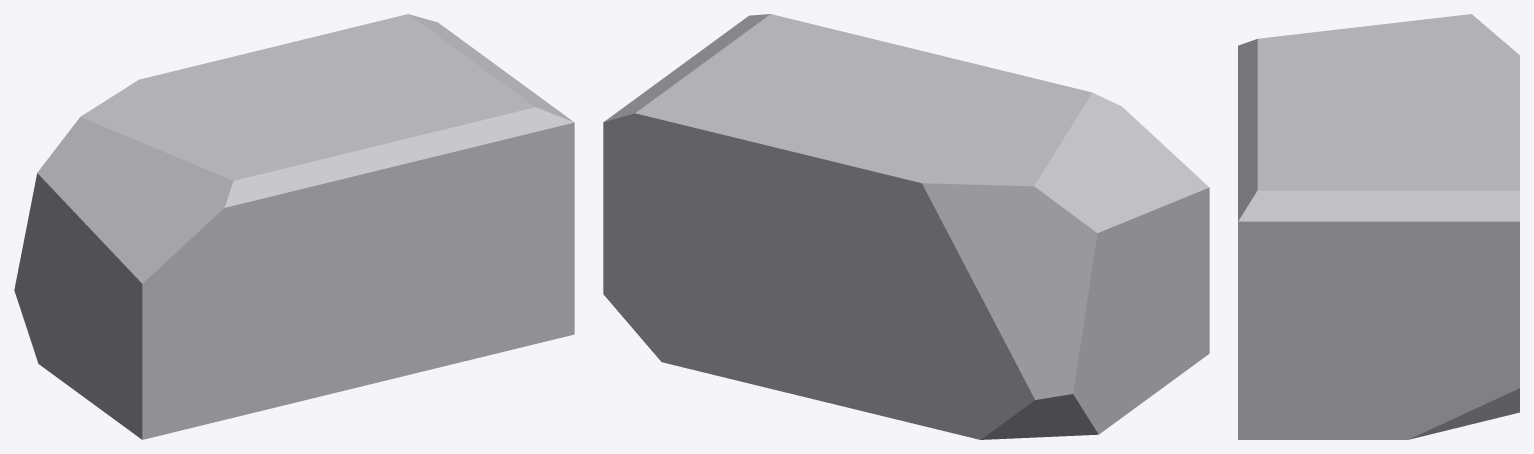
The model's file is Rock_Block_m_14.fbx.
The picture shows the model from 3 angles, left to right: view 1: azimuth 30°, elevation 25°; view 2: azimuth 150°, elevation 25°; view 3: azimuth 270°, elevation 25°; orthographic projection. The views are drawn at different scales.
Visible parts, largest first — view 1: Rock_Block_m_14; view 2: Rock_Block_m_14; view 3: Rock_Block_m_14.
Part boxes in pixels (<box>): Rock_Block_m_14: <box>14,14,574,439</box>; Rock_Block_m_14: <box>603,14,1209,439</box>; Rock_Block_m_14: <box>1238,14,1519,439</box>.
Bounding box in the file's own units: 116 × 58.25 × 63.43.
